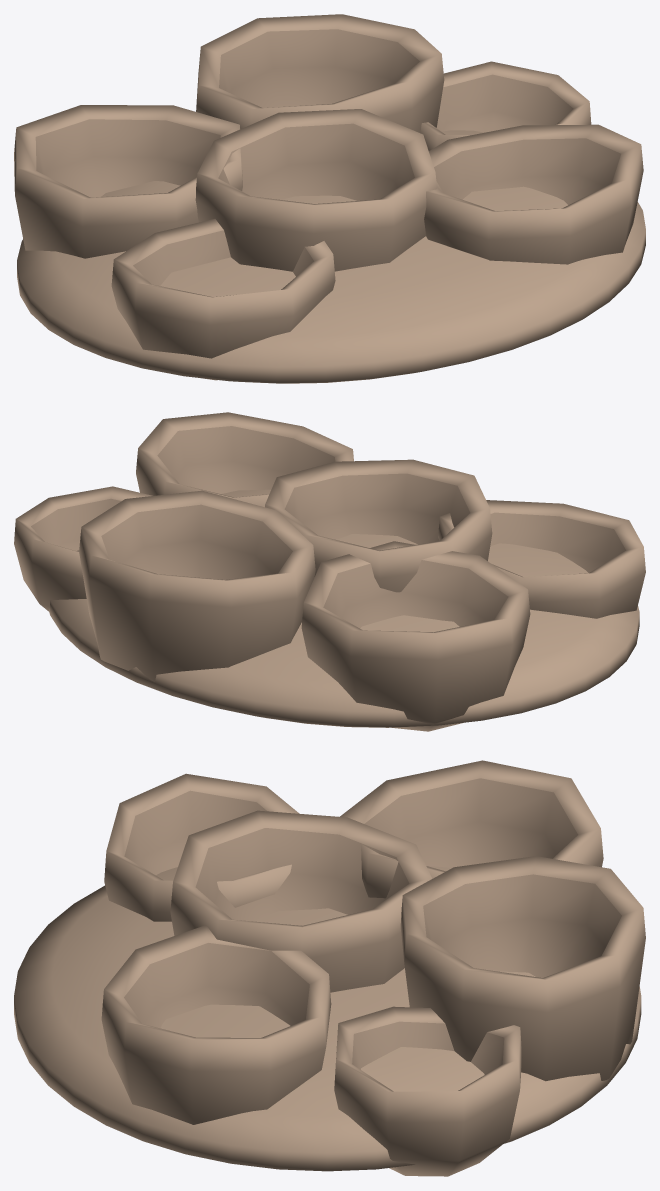
File: pleurodictyum.glb
3 renders of one model, top to bottom at view 1: azimuth 30°, elevation 25°; view 2: azimuth 150°, elevation 25°; view 3: azimuth 270°, elevation 25°, orthographic. The views are drawn at different scales.
Parts seen in each view (by area): view 1: low-domed-colony-disc-with-few-adjoining-large-calyces; view 2: low-domed-colony-disc-with-few-adjoining-large-calyces; view 3: low-domed-colony-disc-with-few-adjoining-large-calyces.
Boxes of the visible parts, x1,y1,x2,y2 form: low-domed-colony-disc-with-few-adjoining-large-calyces: [14, 14, 645, 383]; low-domed-colony-disc-with-few-adjoining-large-calyces: [14, 412, 645, 731]; low-domed-colony-disc-with-few-adjoining-large-calyces: [14, 760, 645, 1176].
Size of the model in its own units: 0.09 by 0.0248 by 0.0759.
